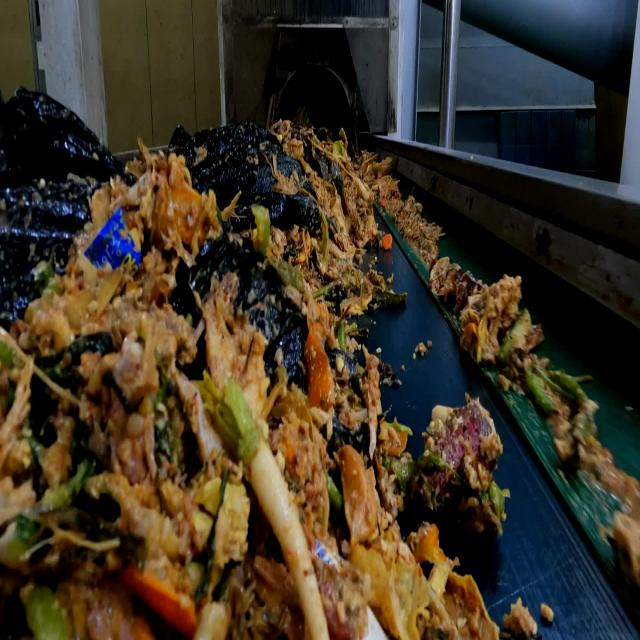inorganic: (0, 87, 93, 267)
organic: (185, 396, 327, 592), (14, 307, 127, 462), (339, 441, 412, 635), (201, 281, 267, 412), (2, 321, 82, 412), (139, 146, 203, 256), (421, 440, 492, 530), (0, 343, 36, 478), (302, 165, 349, 252), (522, 360, 588, 416), (388, 451, 448, 497), (361, 346, 381, 465), (342, 170, 376, 239), (497, 308, 532, 360), (267, 152, 299, 195), (338, 284, 373, 322), (136, 136, 154, 171)
